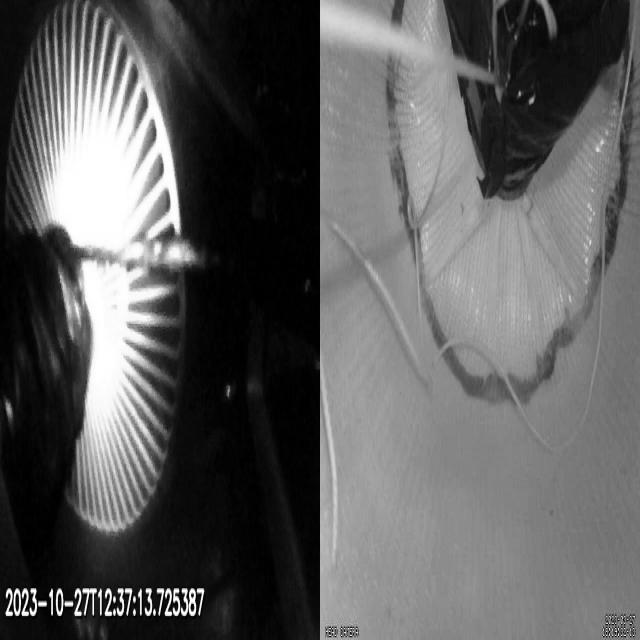red-circle: (385, 4, 635, 400)
